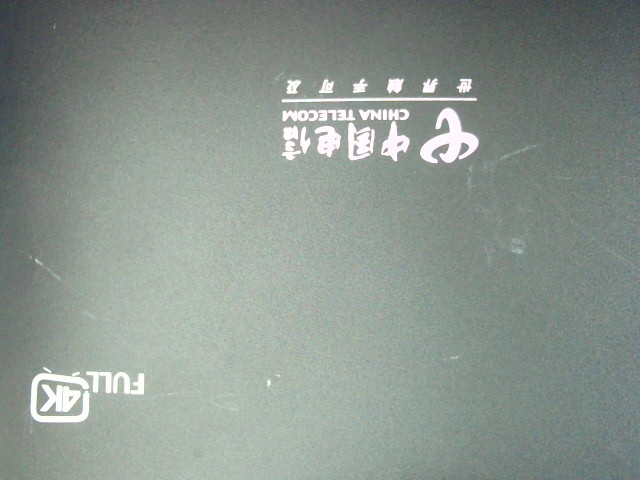AB_ChinaTelecom: (267, 70, 490, 171)
